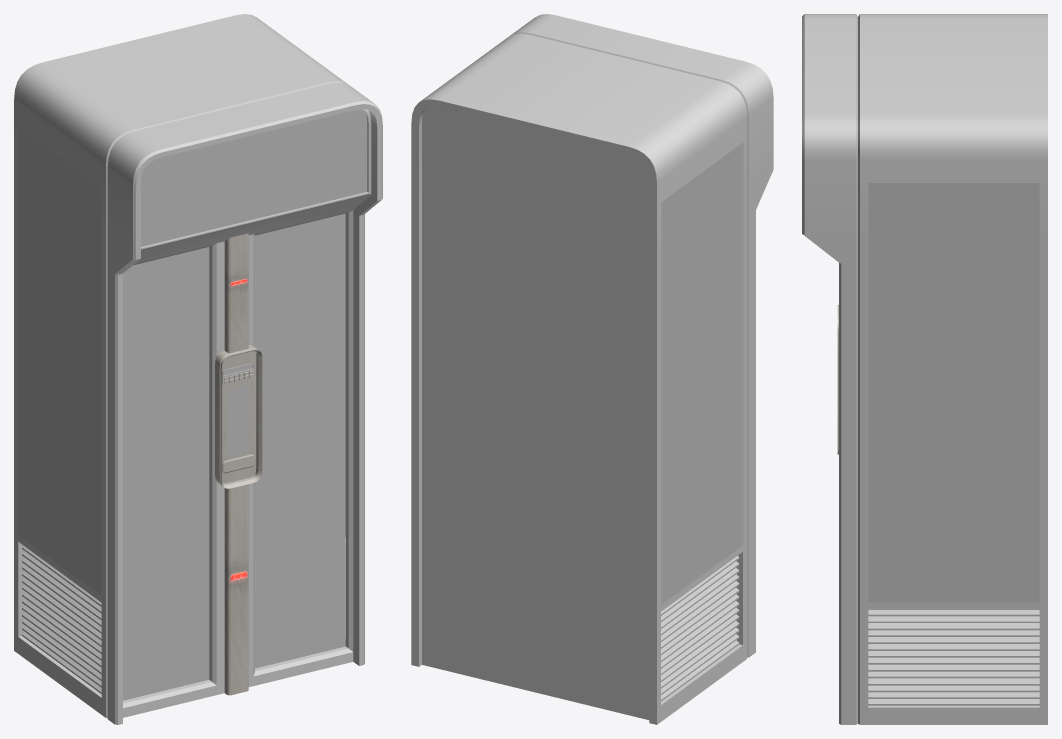
File: KB3D_CBP_VendingMachine_C.fbx
3 views of the same model, side by side, from view 1: azimuth 30°, elevation 25°; view 2: azimuth 150°, elevation 25°; view 3: azimuth 270°, elevation 25° (orthographic). The views are drawn at different scales.
Parts seen in each view (by area): view 1: KB3D_CBP_VendingMachine_C_Main; view 2: KB3D_CBP_VendingMachine_C_Main; view 3: KB3D_CBP_VendingMachine_C_Main.
Part boxes in pixels (left/top/right/bottom): KB3D_CBP_VendingMachine_C_Main: left=14, top=14, right=382, bottom=724; KB3D_CBP_VendingMachine_C_Main: left=411, top=14, right=773, bottom=724; KB3D_CBP_VendingMachine_C_Main: left=802, top=14, right=1047, bottom=724.
Bounding box in the file's own units: 109 × 240 × 89.78.
